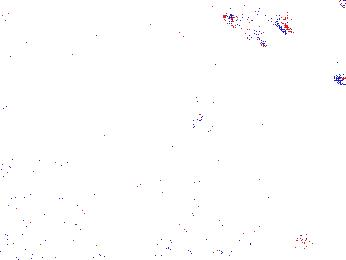X-ray fish: (183, 96, 244, 131)
redtail glassfish: (219, 2, 294, 44)
